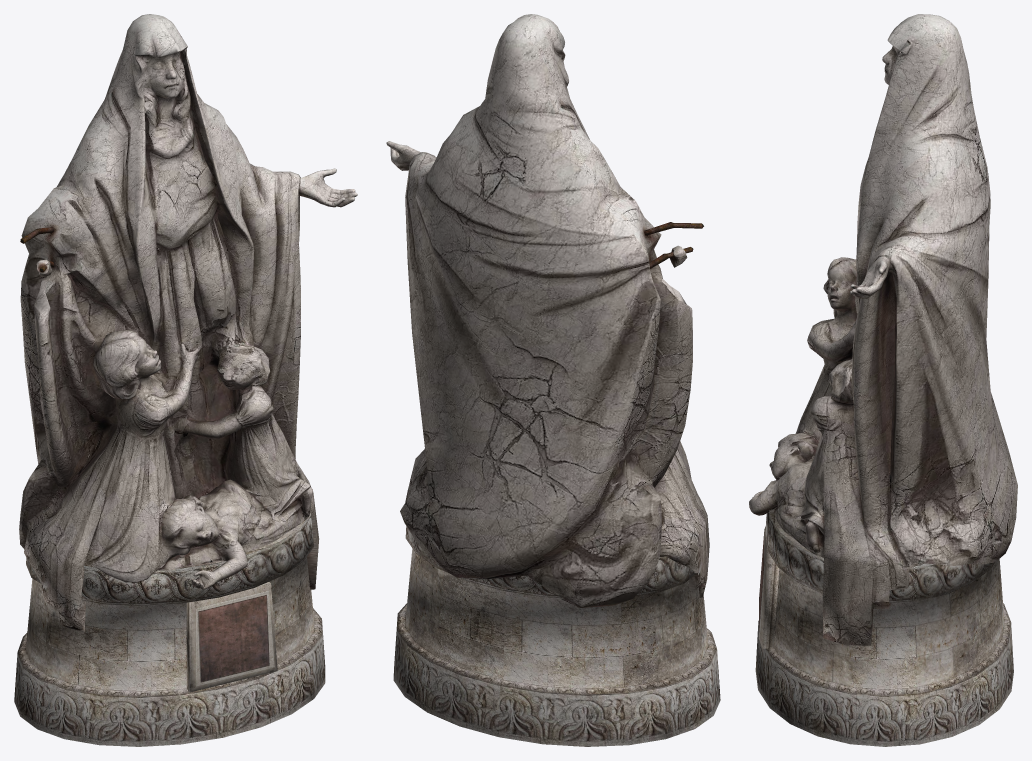
The model's file is statue2.fbx.
3 views of the same model, side by side, from view 1: azimuth 30°, elevation 25°; view 2: azimuth 150°, elevation 25°; view 3: azimuth 270°, elevation 25° (orthographic). The views are drawn at different scales.
Visible parts, largest first — view 1: skp7BDF1; view 2: skp7BDF1; view 3: skp7BDF1.
Boxes of the visible parts, <box> form: skp7BDF1: <box>14,14,357,746</box>; skp7BDF1: <box>386,14,720,746</box>; skp7BDF1: <box>749,14,1017,746</box>.
Size of the model in its own units: 1.55 by 3.06 by 1.13.
